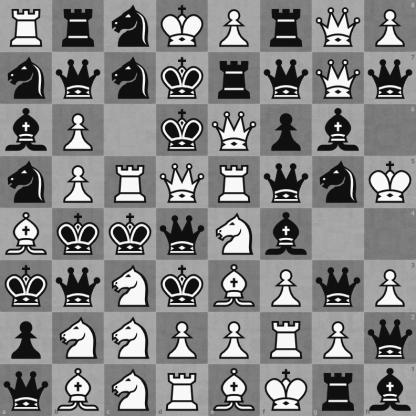B: (52, 364, 104, 416), (209, 364, 260, 416), (1, 209, 52, 260), (209, 261, 260, 312)
K: (364, 156, 416, 209), (260, 364, 312, 416), (157, 1, 208, 52)
N: (104, 364, 156, 416), (53, 313, 104, 364), (105, 261, 156, 312), (105, 313, 156, 364), (209, 209, 260, 260)
P: (364, 0, 416, 52), (364, 260, 416, 312), (53, 105, 104, 156), (53, 157, 104, 208), (157, 313, 208, 364), (209, 1, 260, 52), (209, 313, 260, 364), (261, 261, 312, 312), (313, 313, 364, 364)
Q: (157, 157, 208, 208), (209, 105, 260, 156), (313, 1, 364, 52), (313, 53, 364, 104)
R: (156, 364, 209, 416), (1, 1, 52, 52), (105, 157, 156, 208), (209, 157, 260, 208), (261, 313, 312, 364)
b: (364, 364, 416, 416), (1, 105, 52, 156), (261, 209, 312, 260), (313, 105, 364, 156)
board: (0, 0, 415, 415)
k: (1, 261, 52, 312), (53, 209, 104, 260), (105, 209, 156, 260), (157, 53, 208, 104), (157, 105, 208, 156), (157, 261, 208, 312)
n: (1, 53, 52, 104), (1, 157, 52, 208), (105, 1, 156, 52), (105, 53, 156, 104), (313, 157, 364, 208)
p: (1, 313, 52, 364), (261, 105, 312, 156)
q: (0, 364, 52, 416), (364, 52, 416, 104), (364, 312, 416, 364), (53, 53, 104, 104), (53, 261, 104, 312), (157, 209, 208, 260), (261, 53, 312, 104), (261, 157, 312, 208), (313, 261, 364, 312)
r: (312, 364, 364, 416), (53, 1, 104, 52), (209, 53, 260, 104), (261, 1, 312, 52)
